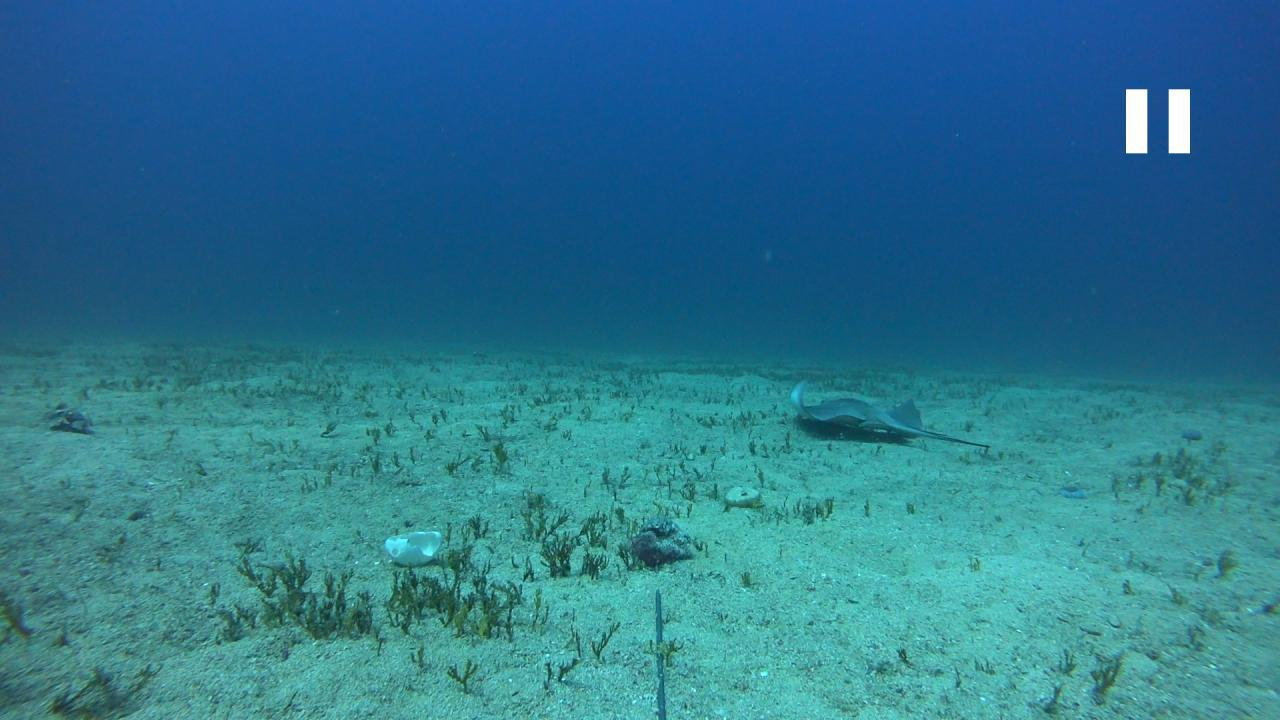dasyatis: (788, 378, 988, 448)
